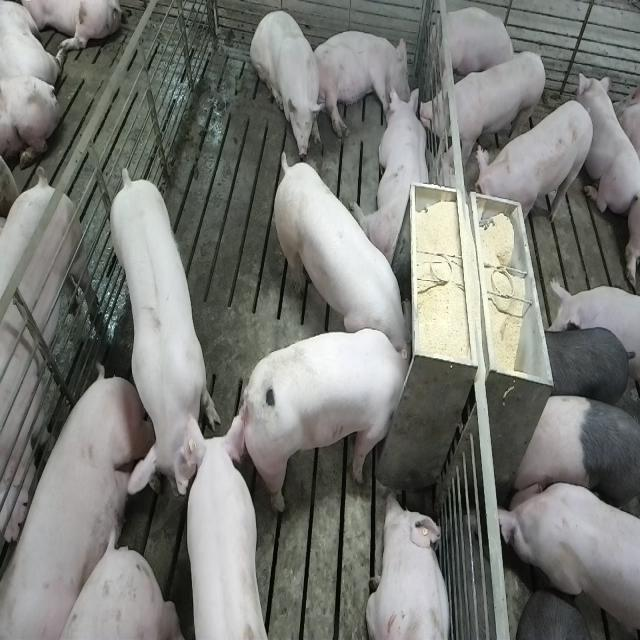Feeding: (246, 328, 420, 514), (270, 144, 410, 356)
Lateral_lying: (3, 365, 164, 640), (311, 29, 413, 140)
Sitting: (250, 6, 323, 159)
Standing: (108, 167, 223, 502), (0, 174, 99, 563), (499, 480, 638, 640), (170, 422, 265, 640), (511, 392, 638, 522), (474, 98, 596, 230), (421, 47, 549, 159), (532, 323, 637, 414)
Sternal_lying: (356, 85, 432, 268), (365, 488, 453, 640), (579, 72, 638, 222), (432, 6, 518, 90)
